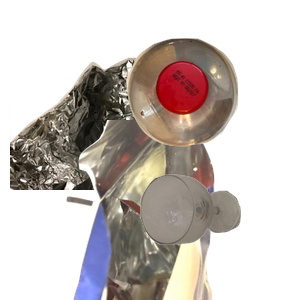glass: (138, 172, 300, 300)
metal: (10, 47, 216, 227)
plastic: (124, 36, 300, 175)
trash: (63, 120, 300, 300)
